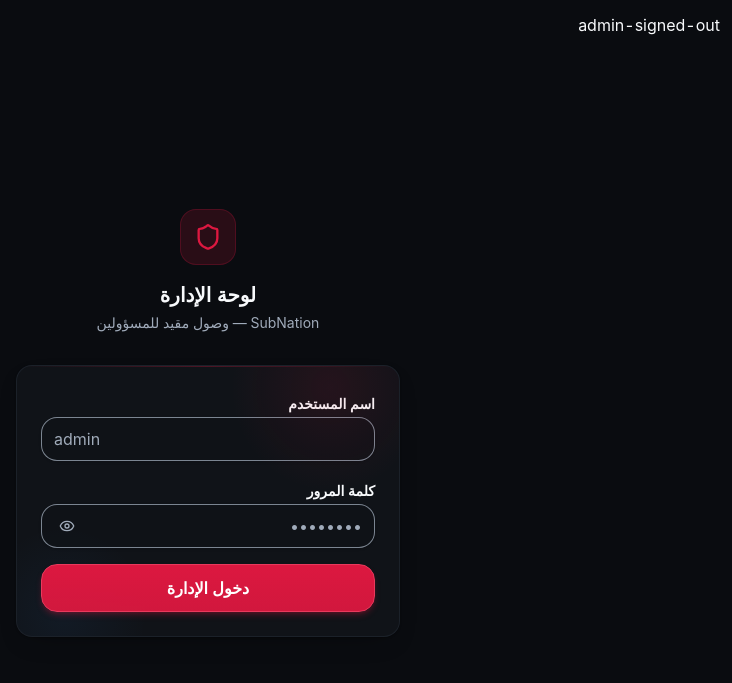
Test: AdminLoginPage — password-step error banner speaks Arabic only (R126-L2 / A3-2) › a 401 ApiError renders the server's Arabic message with NO English HTTP prefix
Expected: the heading "لوحة الإدارة" is shown, [160,283,256,307]
In the field labelled "اسم المستخدم": (208, 439) [41,417,375,461], type "root"
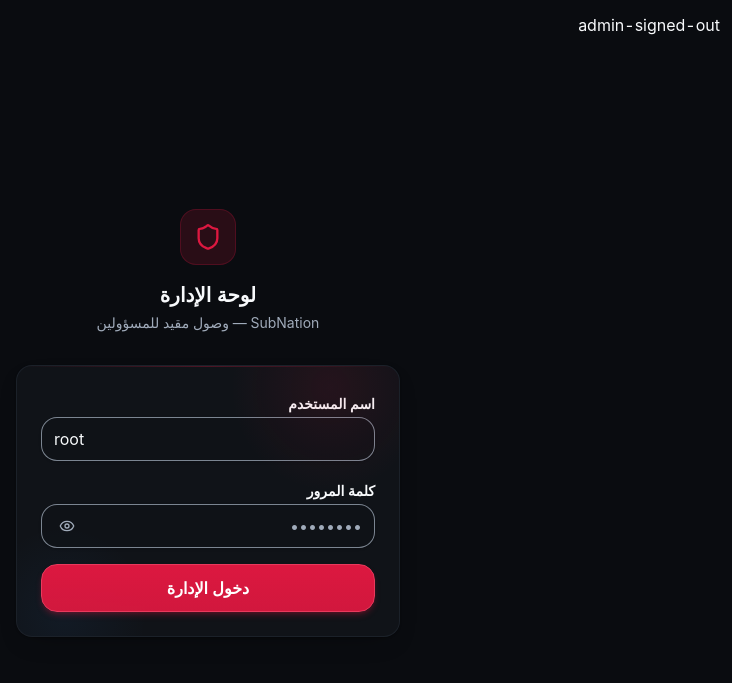
In the password field labelled "كلمة المرور": (208, 526) [41,504,375,548], type "hunter2"
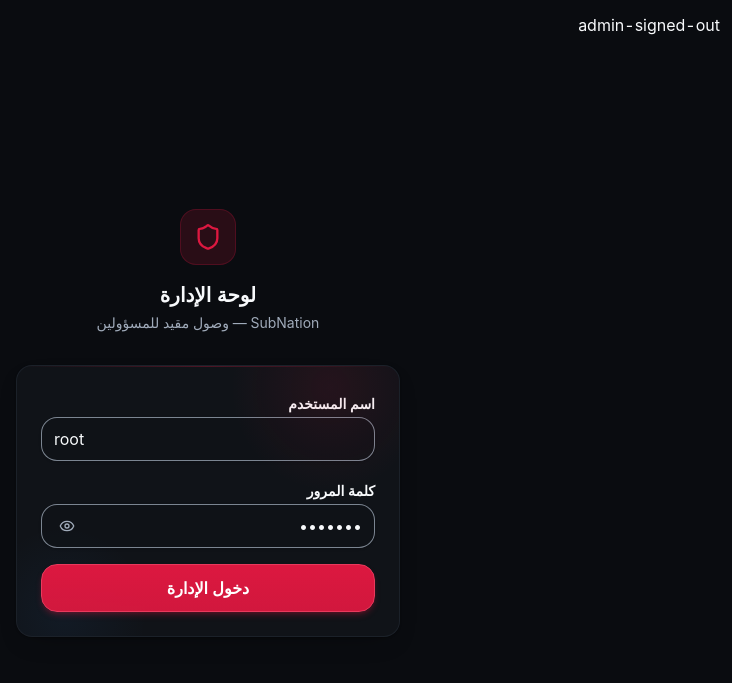
Submit the form, box [41,390,375,612]
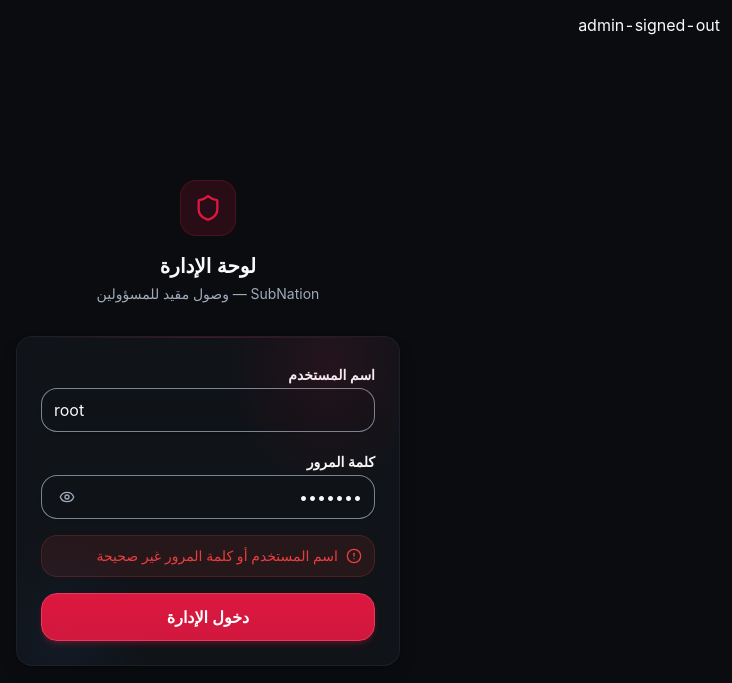
Now the message reads "اسم المستخدم أو كلمة المرور غير صحيحة", box [96,547,338,564]
